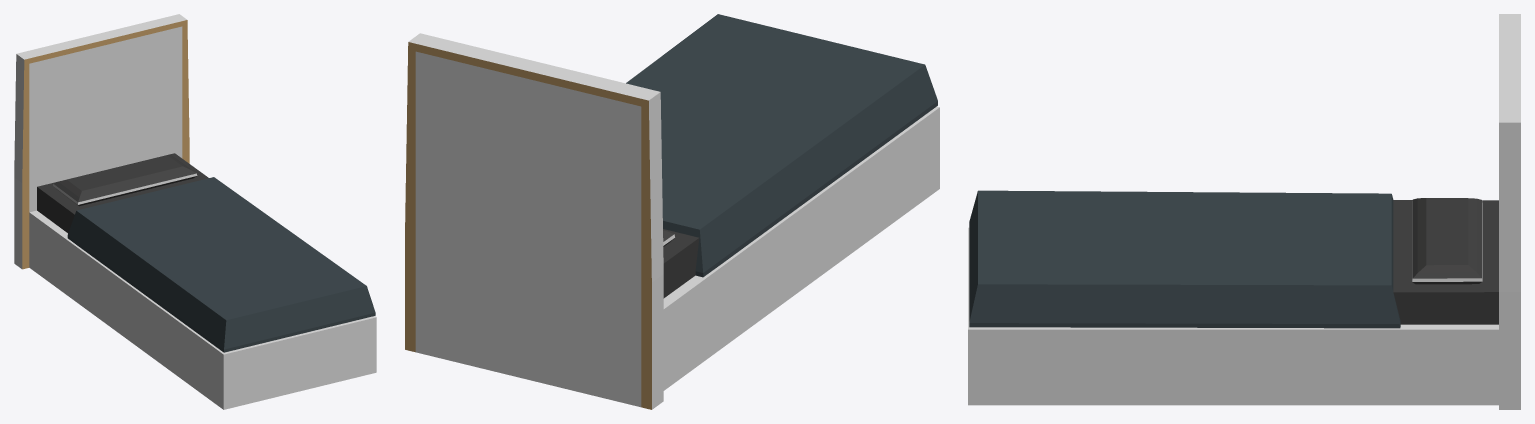
The model's file is BedV2.fbx.
The picture shows the model from 3 angles, left to right: view 1: azimuth 30°, elevation 25°; view 2: azimuth 150°, elevation 25°; view 3: azimuth 270°, elevation 25°; orthographic projection. The views are drawn at different scales.
Parts seen in each view (by area): view 1: BedV2; view 2: BedV2; view 3: BedV2.
Boxes of the visible parts, x1=… form: BedV2: x1=14, y1=14, x2=376, y2=409; BedV2: x1=405, y1=14, x2=939, y2=409; BedV2: x1=968, y1=14, x2=1520, y2=409.
Bounding box in the file's own units: 116 × 139 × 243.
